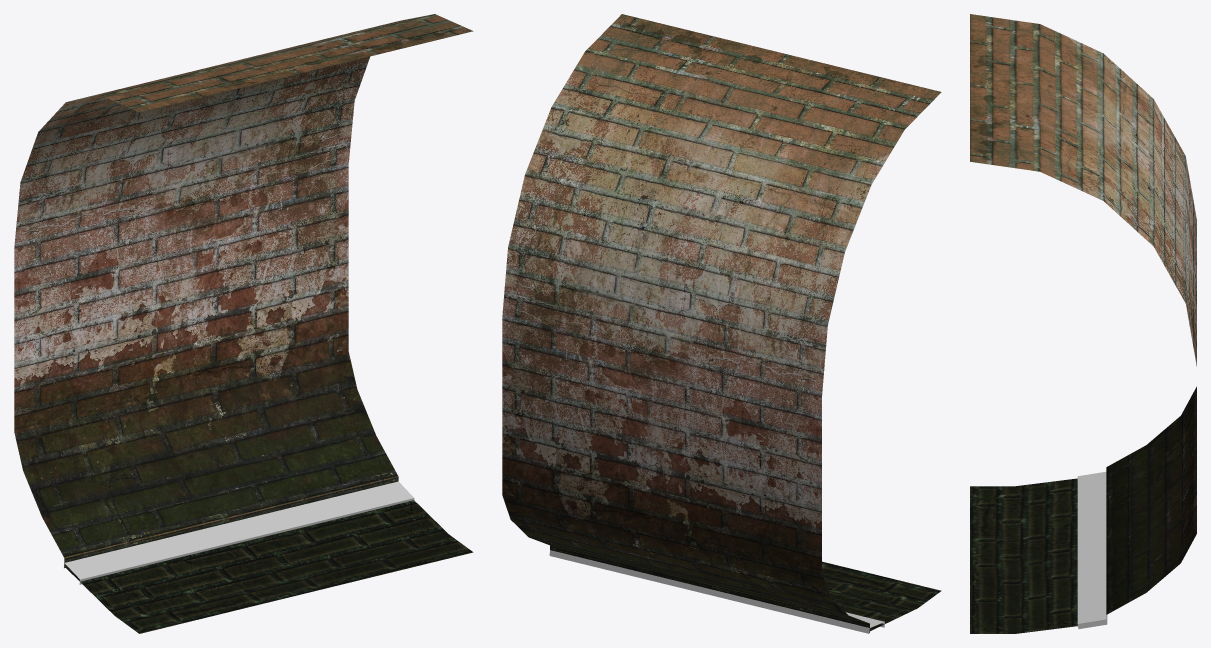
The model's file is TL_small_half.DAE.
3 renders of one model, left to right at view 1: azimuth 30°, elevation 25°; view 2: azimuth 150°, elevation 25°; view 3: azimuth 270°, elevation 25°, orthographic. The views are drawn at different scales.
Parts seen in each view (by area): view 1: tunnel_low_small_half, tunnel_low_floor_small_half, tunnel_low_drain_small_half; view 2: tunnel_low_small_half, tunnel_low_floor_small_half, tunnel_low_drain_small_half; view 3: tunnel_low_small_half, tunnel_low_floor_small_half, tunnel_low_drain_small_half.
Part boxes in pixels (x1,y1,x2,y2): tunnel_low_small_half: [14, 14, 473, 567]; tunnel_low_floor_small_half: [64, 500, 473, 633]; tunnel_low_drain_small_half: [64, 481, 414, 584]; tunnel_low_small_half: [502, 14, 941, 632]; tunnel_low_floor_small_half: [822, 561, 941, 631]; tunnel_low_drain_small_half: [549, 550, 884, 633]; tunnel_low_small_half: [970, 14, 1196, 614]; tunnel_low_floor_small_half: [970, 478, 1077, 633]; tunnel_low_drain_small_half: [1077, 471, 1107, 628].
Bounding box in the file's own units: 2 × 1.3 × 2.98.
